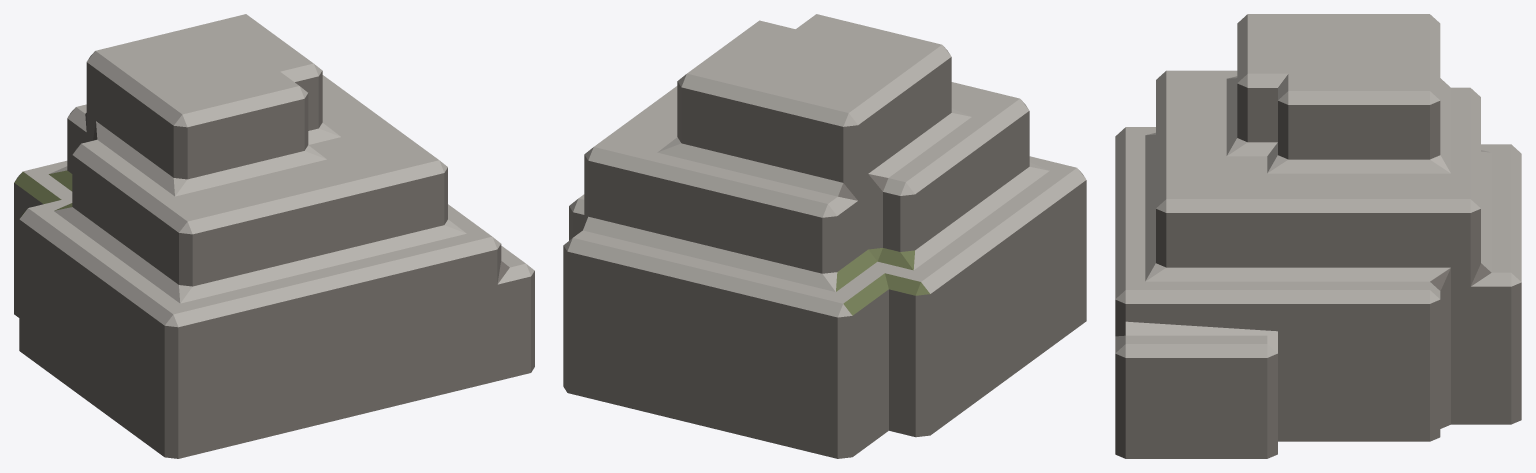
The model's file is rock_stage2_var_1.glb.
3 renders of one model, left to right at view 1: azimuth 30°, elevation 25°; view 2: azimuth 150°, elevation 25°; view 3: azimuth 270°, elevation 25°, orthographic. The views are drawn at different scales.
Visible parts, largest first — view 1: destructible_rock_stage_2_var_2_S, destructible_rock_stage_2_var_2_L, destructible_rock_stage_2_var_2_M; view 2: destructible_rock_stage_2_var_2_S, destructible_rock_stage_2_var_2_L, destructible_rock_stage_2_var_2_M; view 3: destructible_rock_stage_2_var_2_S, destructible_rock_stage_2_var_2_L.
Part boxes in pixels (left/top/right/bottom): destructible_rock_stage_2_var_2_S: left=14, top=62, right=534, bottom=458; destructible_rock_stage_2_var_2_L: left=15, top=14, right=534, bottom=327; destructible_rock_stage_2_var_2_M: left=14, top=170, right=72, bottom=217; destructible_rock_stage_2_var_2_S: left=563, top=57, right=1086, bottom=458; destructible_rock_stage_2_var_2_L: left=563, top=14, right=1086, bottom=317; destructible_rock_stage_2_var_2_M: left=836, top=248, right=929, bottom=315; destructible_rock_stage_2_var_2_S: left=1115, top=83, right=1521, bottom=458; destructible_rock_stage_2_var_2_L: left=1115, top=14, right=1521, bottom=357.
Size of the model in its own units: 1.65 by 1.2 by 1.5.
